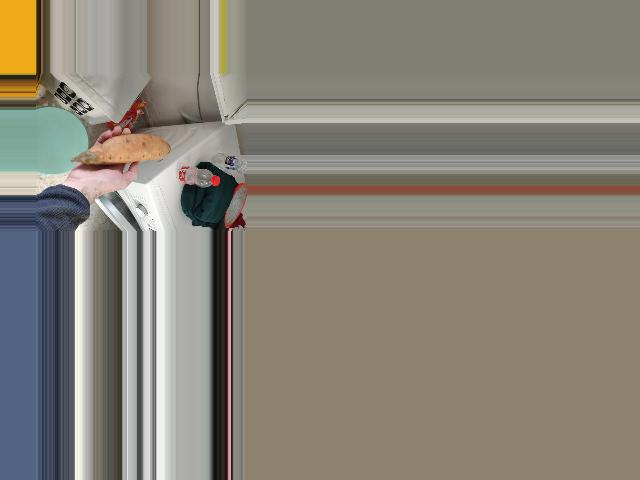sweet_potato: (85, 131, 168, 164)
